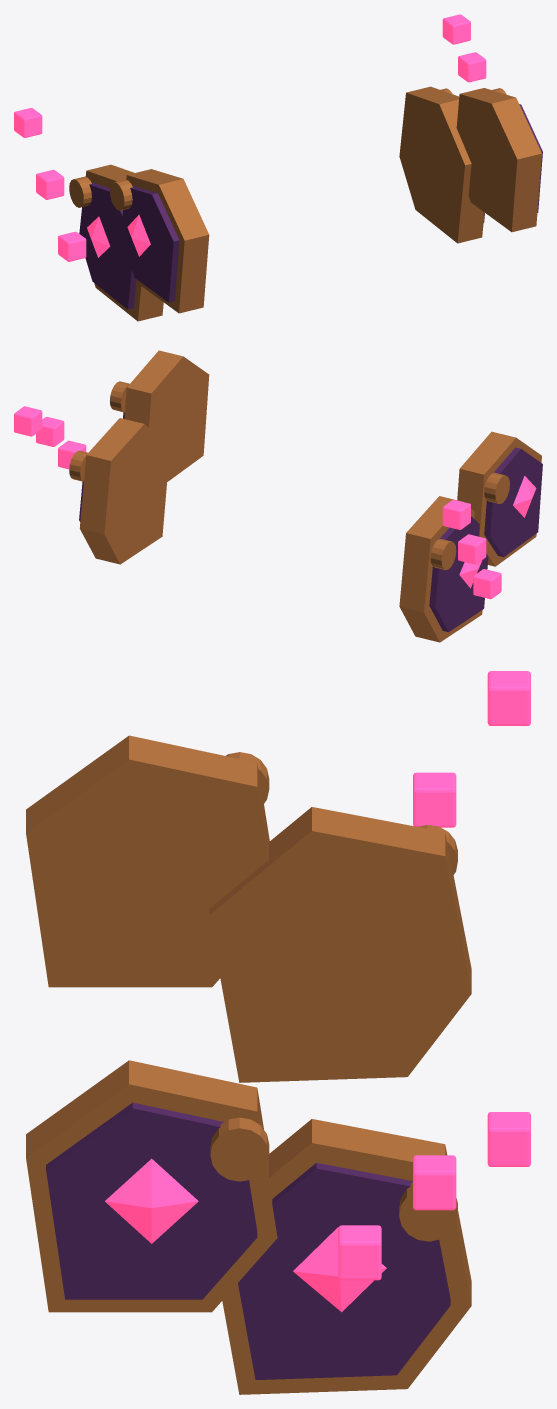
The model's file is finalboss-arcade-v1-accessories.fbx.
3 views of the same model, one above another, from view 1: azimuth 30°, elevation 25°; view 2: azimuth 150°, elevation 25°; view 3: azimuth 270°, elevation 25° (orthographic). The views are drawn at different scales.
Visible parts, largest first — view 1: BossGuard_1_0, BossGuard_1_1, BossGuard_-1_0, BossInset_-1_0, BossInset_-1_1, BossGuard_-1_1, BossEnergy_1_1, BossEnergy_-1_0, BossEnergy_1_2, BossEnergy_-1_1, BossEnergy_-1_2, BossHinge_-1_0 (+3 smaller); view 2: BossGuard_1_1, BossGuard_1_0, BossGuard_-1_1, BossInset_-1_0, BossGuard_-1_0, BossInset_-1_1, BossEnergy_-1_1, BossEnergy_1_2, BossEnergy_-1_0, BossEnergy_-1_2, BossEnergy_1_1, BossHinge_-1_1 (+5 smaller); view 3: BossGuard_-1_1, BossGuard_-1_0, BossInset_1_1, BossInset_1_0, BossGuard_1_0, BossGuard_1_1, OrbitPrism_Boss_1_0, BossHinge_1_0, OrbitPrism_Boss_1_1, BossEnergy_1_0, BossEnergy_1_1, BossEnergy_-1_2 (+3 smaller).
Boxes of the visible parts, bbox=[...] form: BossGuard_1_0: bbox=[456, 88, 541, 232]; BossGuard_1_1: bbox=[399, 86, 484, 243]; BossGuard_-1_0: bbox=[126, 169, 209, 313]; BossInset_-1_0: bbox=[121, 185, 179, 302]; BossInset_-1_1: bbox=[79, 182, 136, 309]; BossGuard_-1_1: bbox=[85, 164, 163, 321]; BossEnergy_1_1: bbox=[458, 52, 486, 82]; BossEnergy_-1_0: bbox=[58, 231, 86, 261]; BossEnergy_1_2: bbox=[442, 14, 470, 44]; BossEnergy_-1_1: bbox=[36, 169, 64, 199]; BossEnergy_-1_2: bbox=[14, 108, 42, 137]; BossHinge_-1_0: bbox=[109, 179, 132, 210]; BossGuard_1_1: bbox=[79, 418, 169, 564]; BossGuard_1_0: bbox=[124, 350, 209, 481]; BossGuard_-1_1: bbox=[399, 496, 482, 642]; BossInset_-1_0: bbox=[484, 447, 542, 557]; BossGuard_-1_0: bbox=[457, 431, 541, 566]; BossInset_-1_1: bbox=[429, 516, 488, 632]; BossEnergy_-1_1: bbox=[458, 534, 486, 564]; BossEnergy_1_2: bbox=[14, 406, 42, 436]; BossEnergy_-1_0: bbox=[473, 569, 501, 599]; BossEnergy_-1_2: bbox=[442, 499, 470, 529]; BossEnergy_1_1: bbox=[36, 417, 64, 446]; BossHinge_-1_1: bbox=[430, 539, 456, 570]; BossGuard_-1_1: bbox=[209, 807, 471, 1082]; BossGuard_-1_0: bbox=[26, 735, 269, 987]; BossInset_1_1: bbox=[238, 1162, 450, 1379]; BossInset_1_0: bbox=[46, 1102, 257, 1299]; BossGuard_1_0: bbox=[26, 1060, 277, 1312]; BossGuard_1_1: bbox=[222, 1119, 471, 1394]; OrbitPrism_Boss_1_0: bbox=[105, 1158, 198, 1243]; BossHinge_1_0: bbox=[210, 1117, 269, 1181]; OrbitPrism_Boss_1_1: bbox=[293, 1227, 386, 1312]; BossEnergy_1_0: bbox=[338, 1225, 381, 1280]; BossEnergy_1_1: bbox=[413, 1155, 456, 1210]; BossEnergy_-1_2: bbox=[487, 671, 530, 725].
Bounding box in the file's own units: 1578 × 570 × 771.
